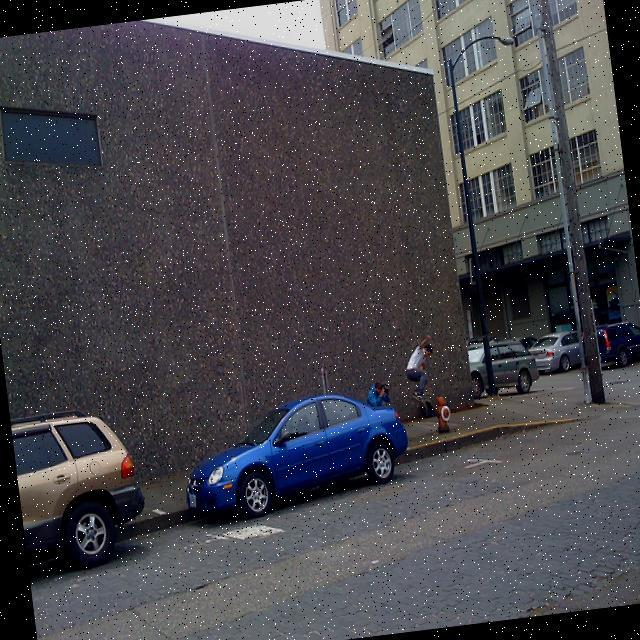fire_hydrant: (433, 394, 452, 430)
